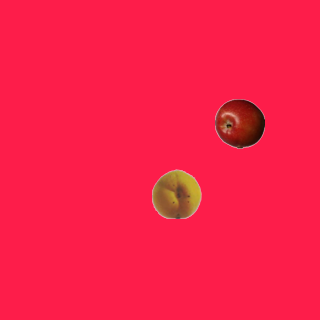Apple Braeburn: (214, 98, 264, 148)
Peach 2: (151, 168, 201, 218)
